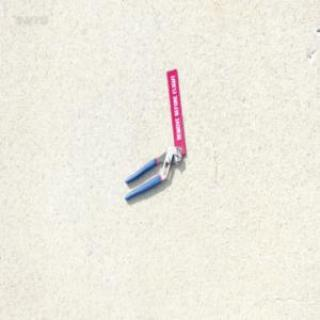LuggageTagtrack_idkeyframe: (166, 67, 186, 155)
Pliertrack_idkeyframe: (123, 143, 181, 201)
